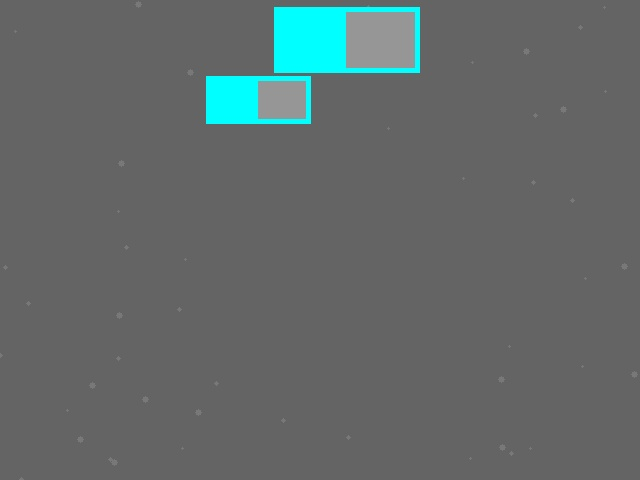truck: (274, 7, 419, 72), (206, 76, 310, 123)
